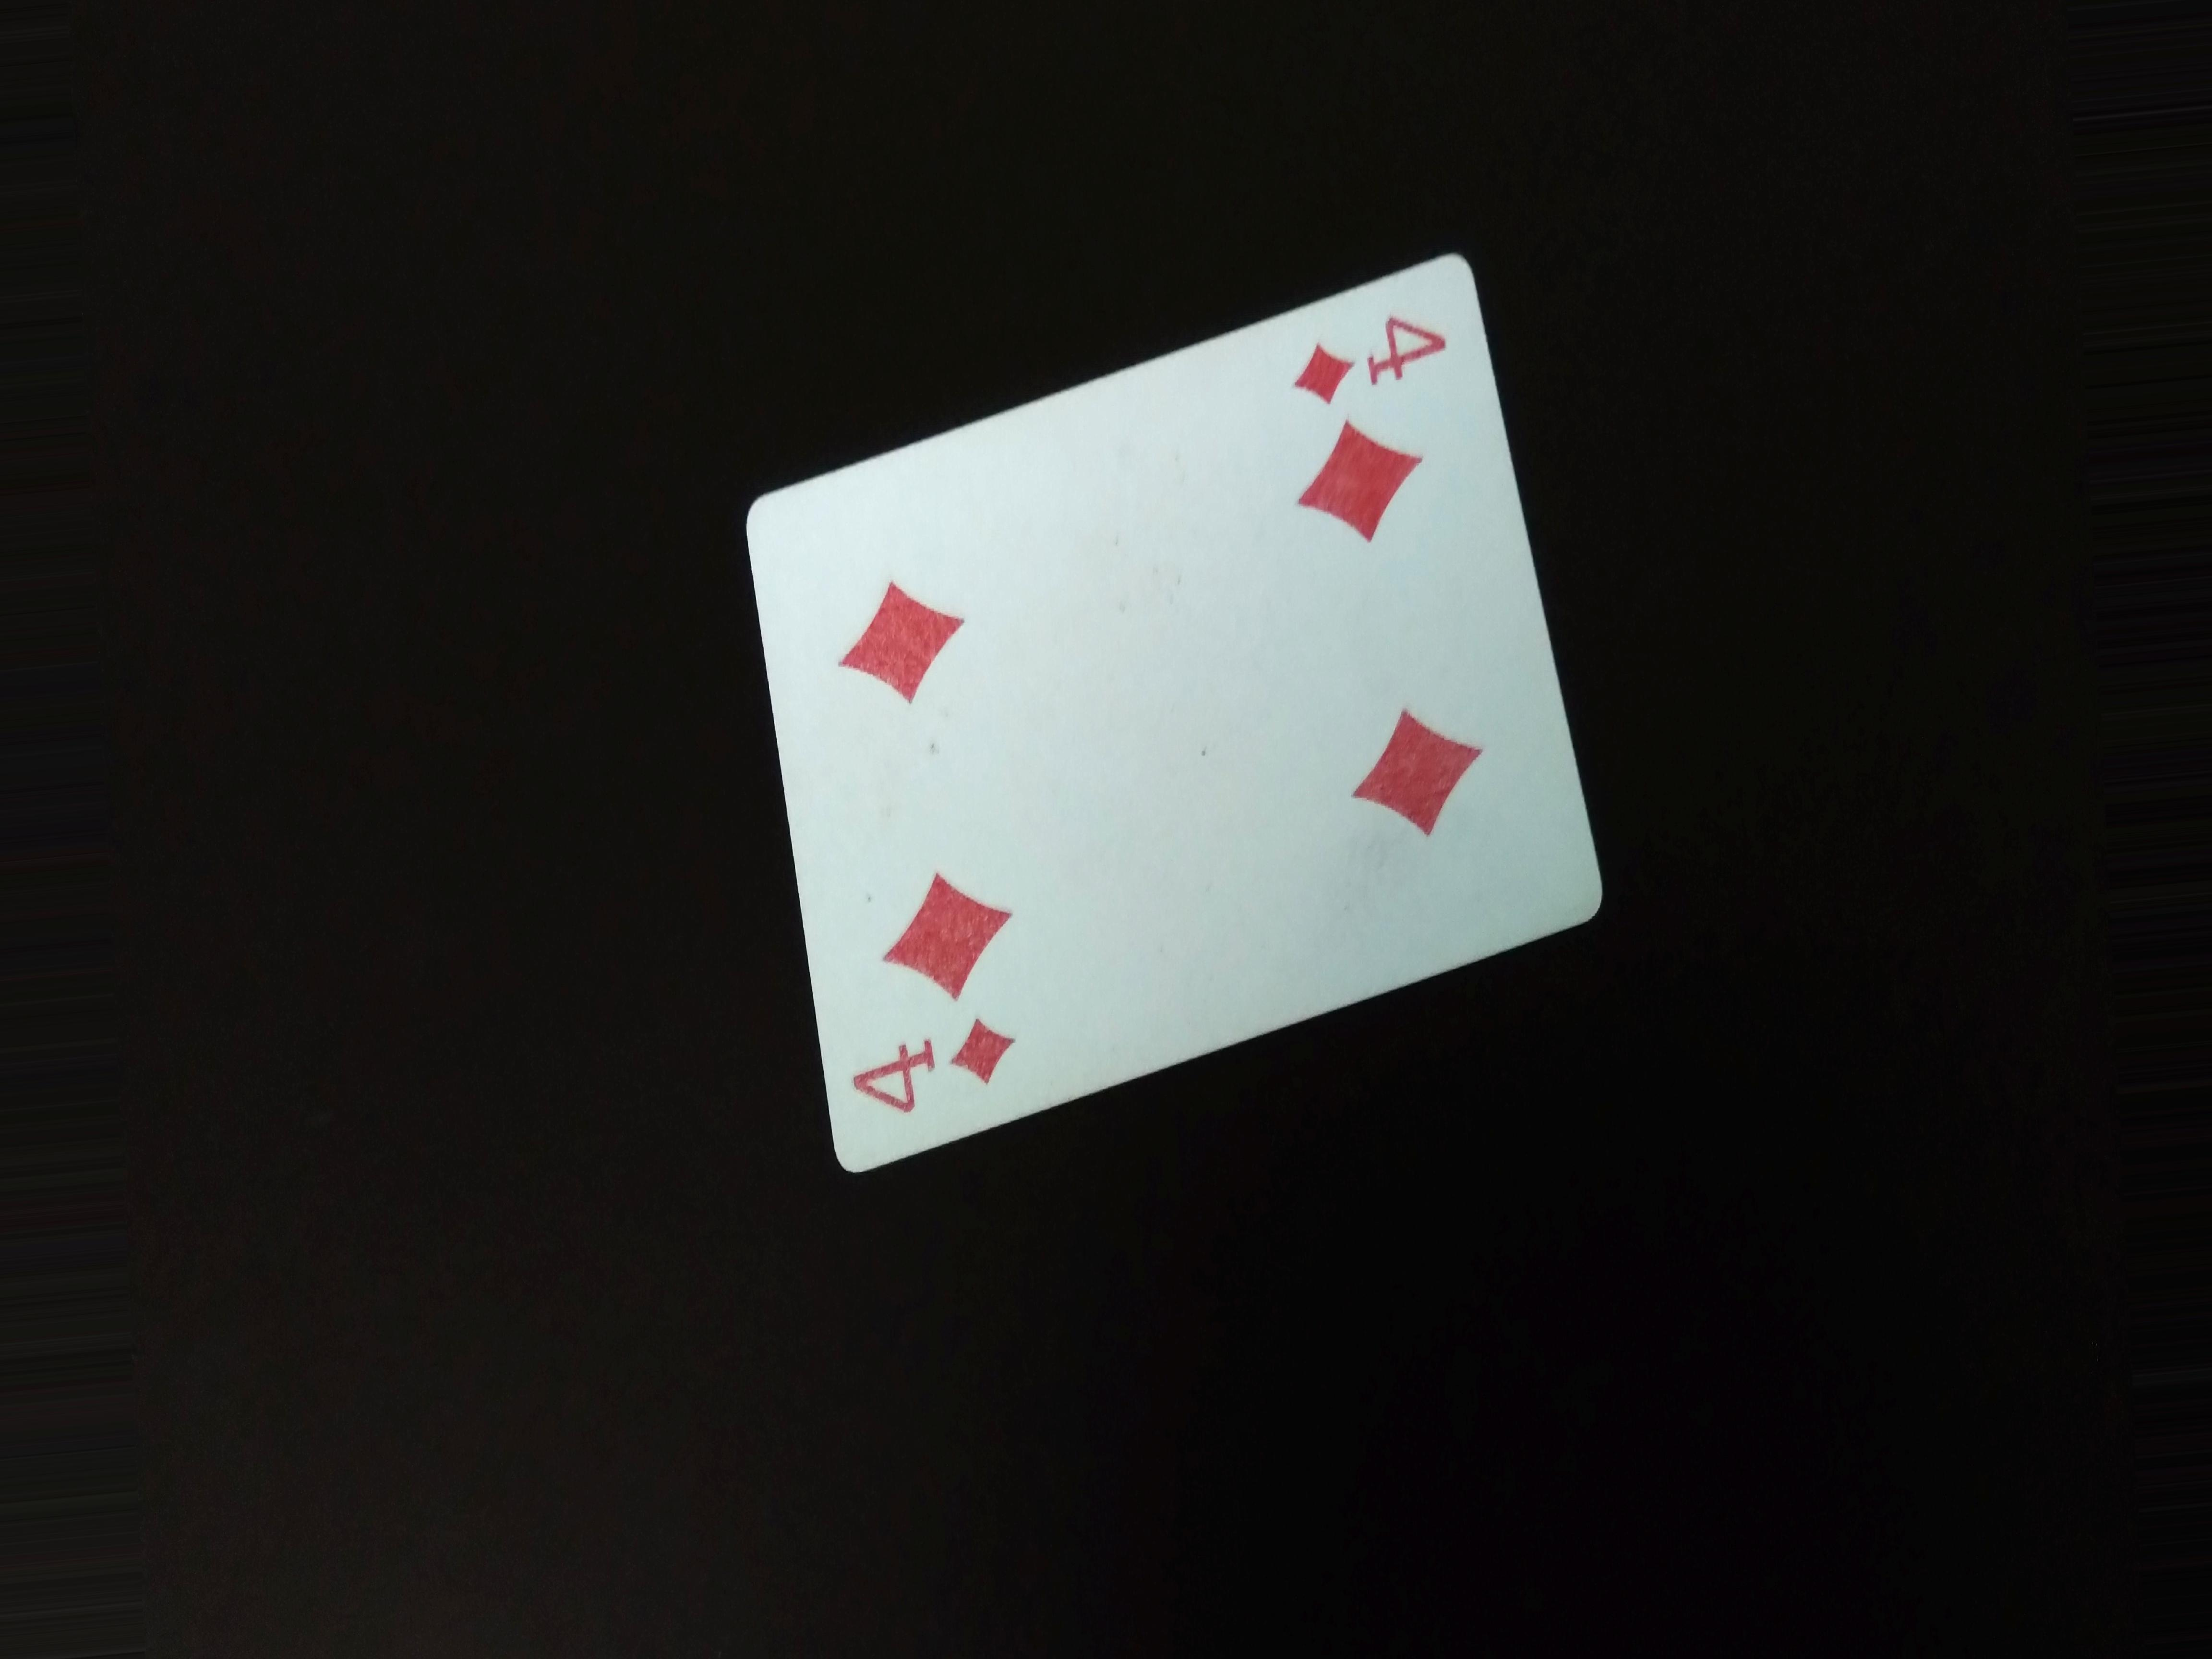4D: (1231, 300, 1446, 416)
